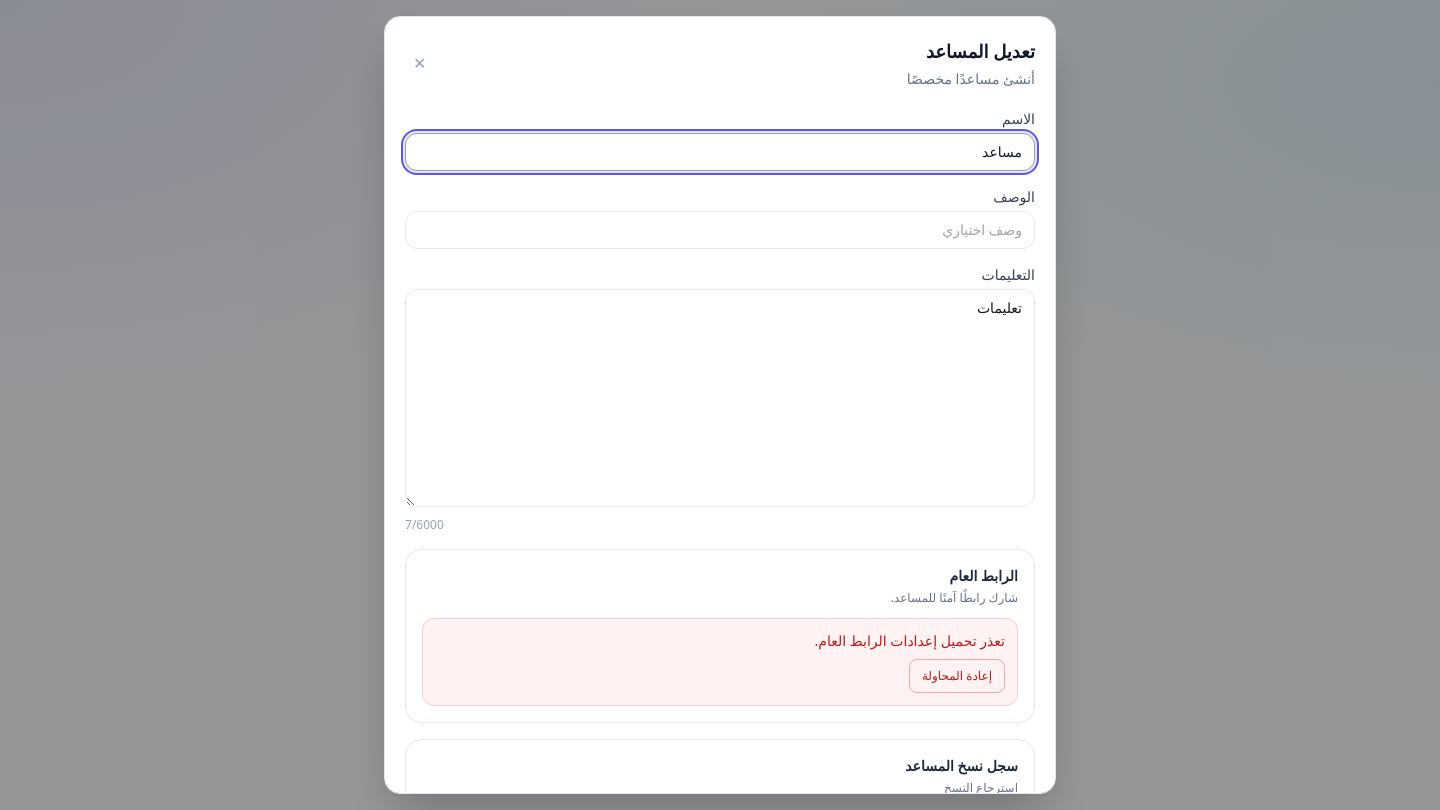
Test: AssistantEditor › blocks public-link changes and offers retry when public settings fail to load
Check: the message shows "تعذر تحميل إعدادات الرابط العام.", box [814,631,1005,650]
Check: the button "تفعيل الرابط العام" is not shown
Click the button "إعادة المحاولة". click: (957, 676)
box: [909,659,1005,693]
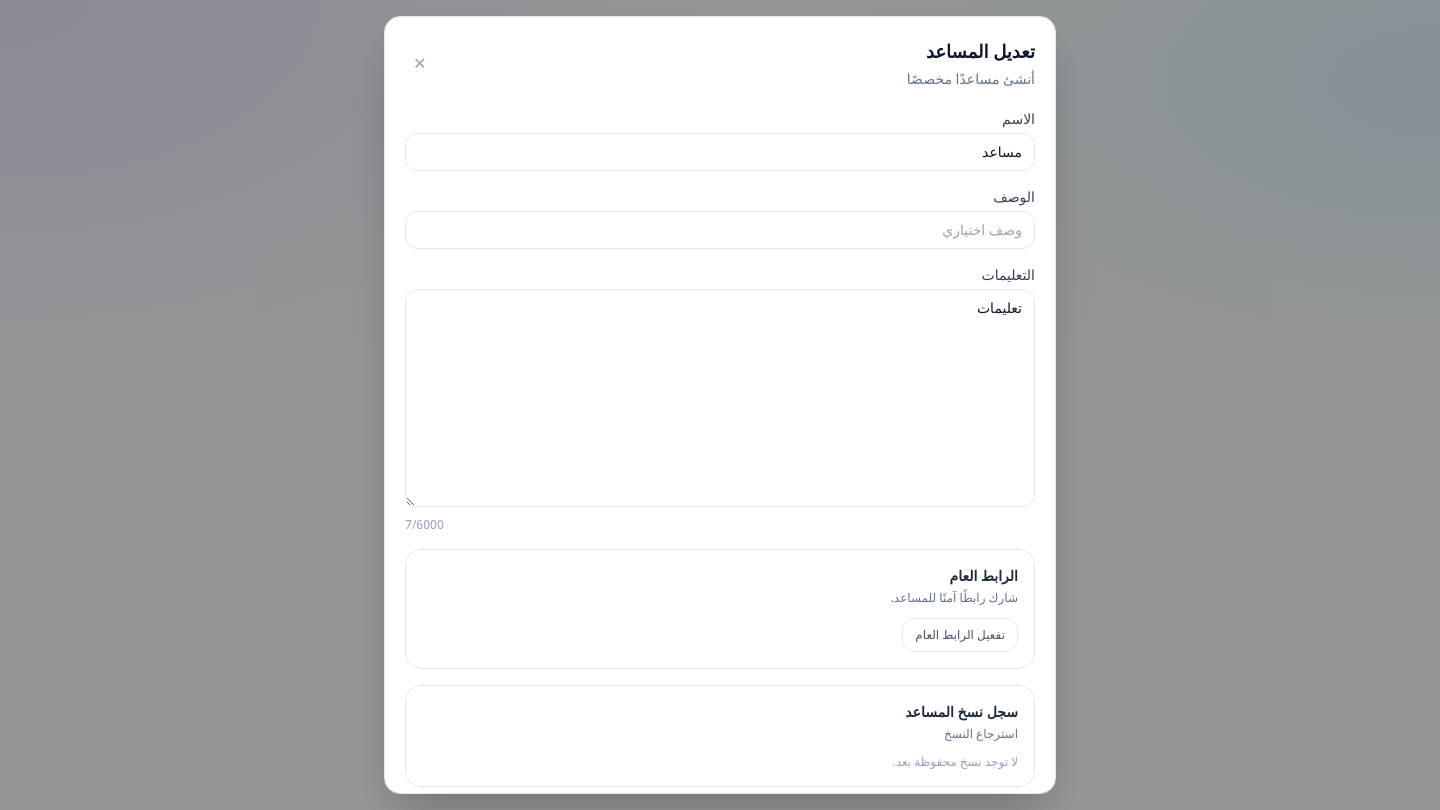
Check: the button "تفعيل الرابط العام" is shown, box [902,618,1018,652]
